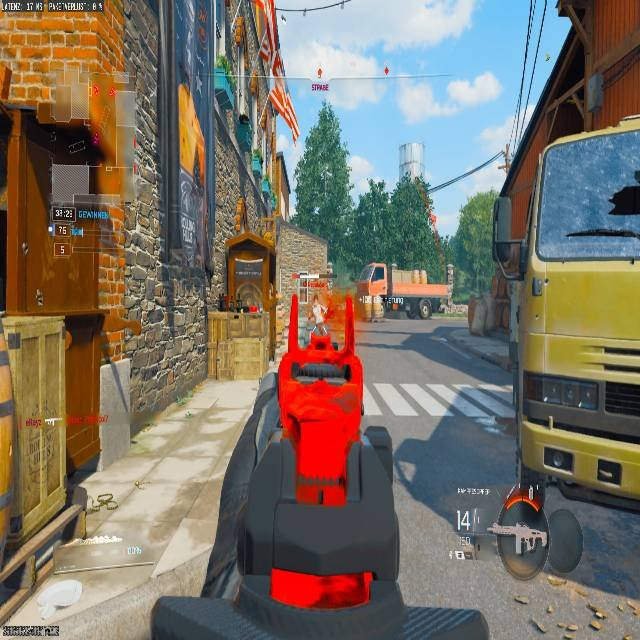player: (311, 303, 328, 336)
